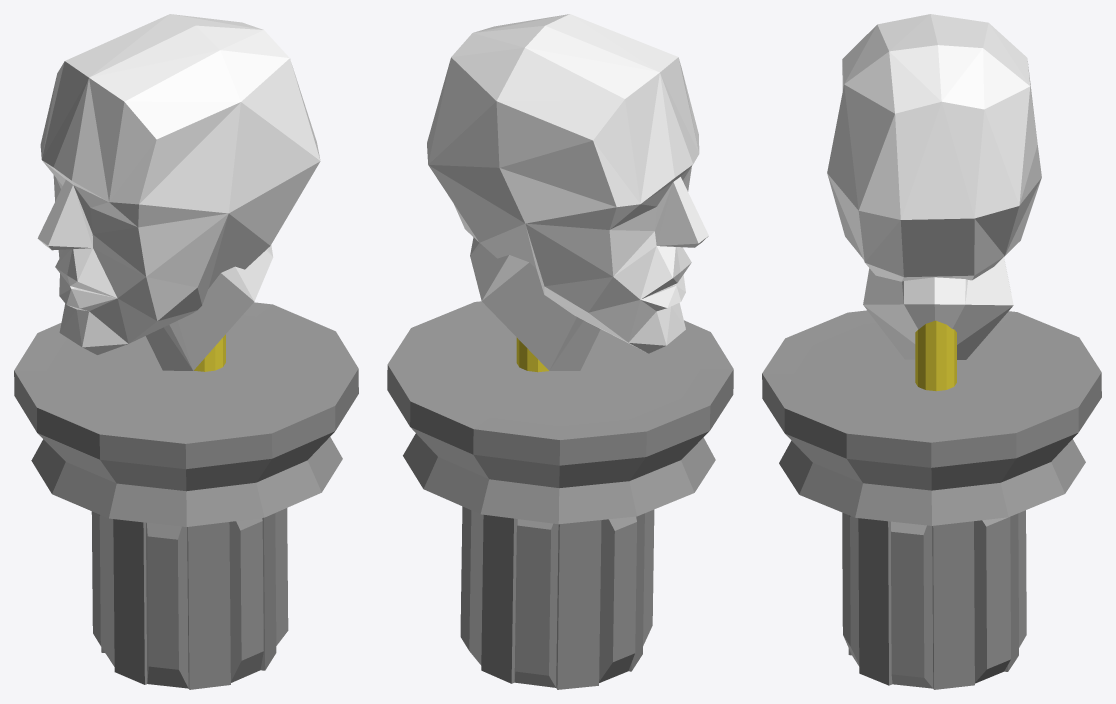
Rendered from where-s-your-head-at--by-max-level-eR0CmIt5-Qz.glb.
3 renders of one model, left to right at view 1: azimuth 30°, elevation 25°; view 2: azimuth 150°, elevation 25°; view 3: azimuth 270°, elevation 25°, orthographic.
Parts seen in each view (by area): view 1: Node; view 2: Node; view 3: Node.
Boxes of the visible parts, bbox=[...] form: Node: bbox=[14, 14, 358, 689]; Node: bbox=[387, 14, 733, 689]; Node: bbox=[762, 14, 1101, 689].
Bounding box in the file's own units: 0.9985 × 1.99 × 0.998.
